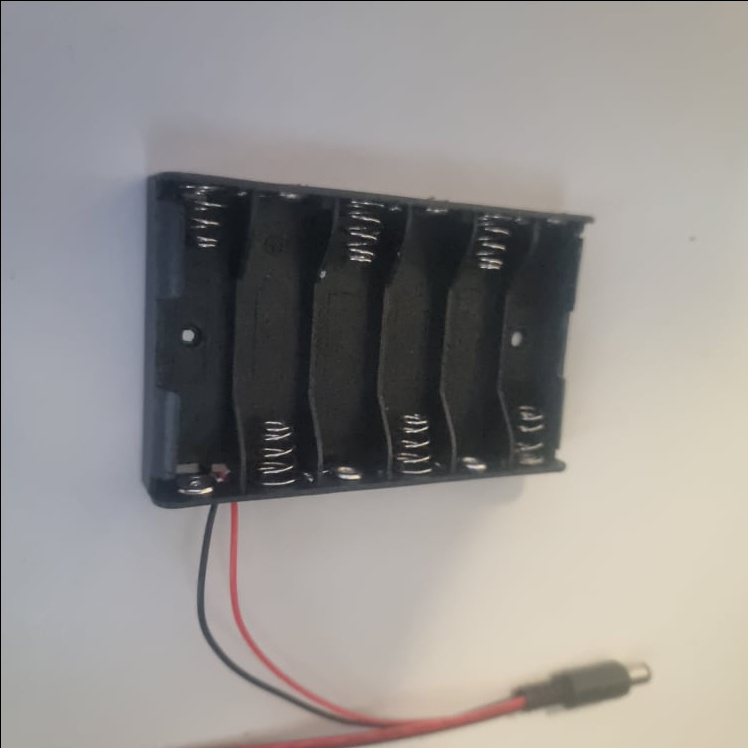BATTERY BOX: (142, 168, 594, 509)
